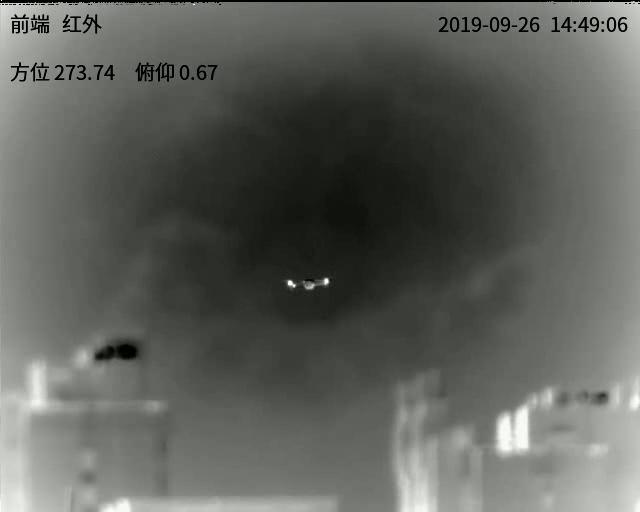DRONE: (285, 277, 329, 289)
